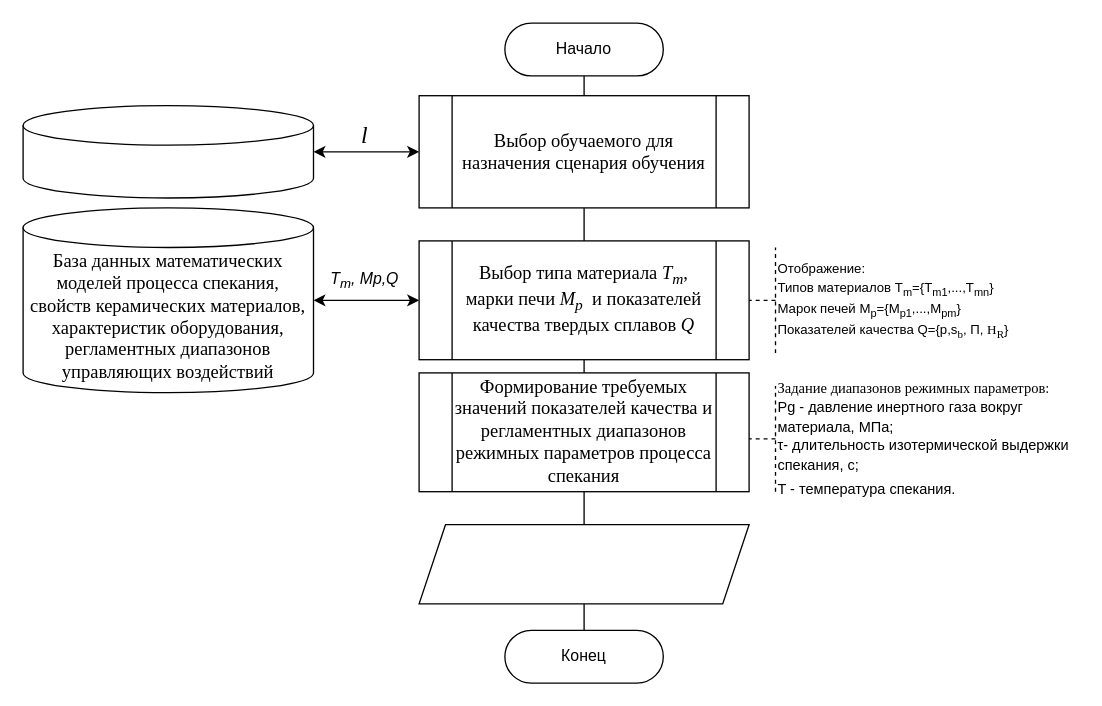
Image size: 1102x706. Some labels were removed from this diagram. Each missing label, with the centre of its shape:
База данных учетных записей пользователей: (168,151)
Вывод сценария обучения S: (583,563)
